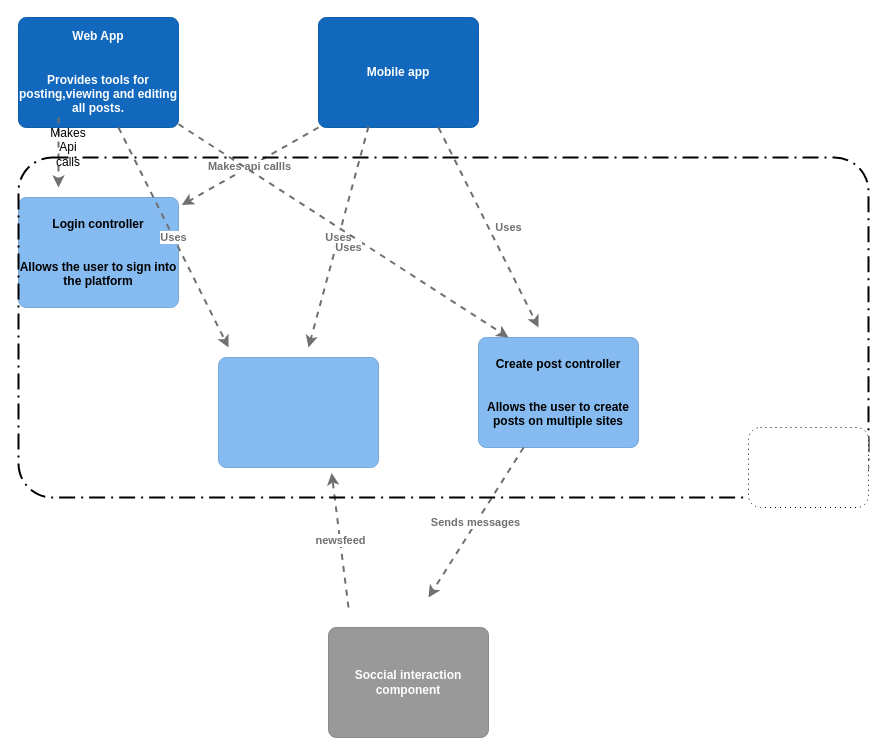
Image size: 886x755. Some labels were removed from this diagram. The box of each missing label's shape, as (x1, y1, x2, y2) in pixels:
Api aplicattion: (748, 426, 868, 508)
View post controller Allows the user to view posts made through the app.: (218, 356, 378, 468)
